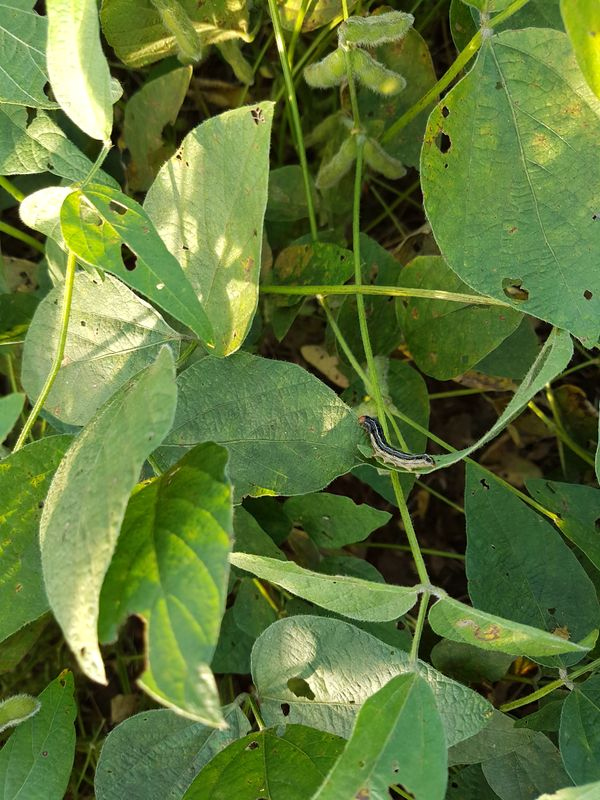Spodoptera_albula: (344, 404, 446, 490)
